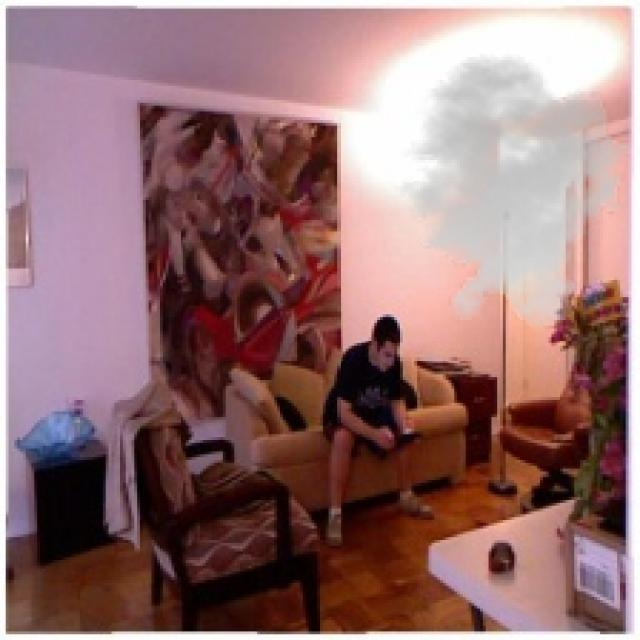smoke: (383, 55, 637, 332)
